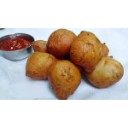bonda: (85, 52, 124, 89), (47, 60, 82, 101), (46, 28, 81, 56)
